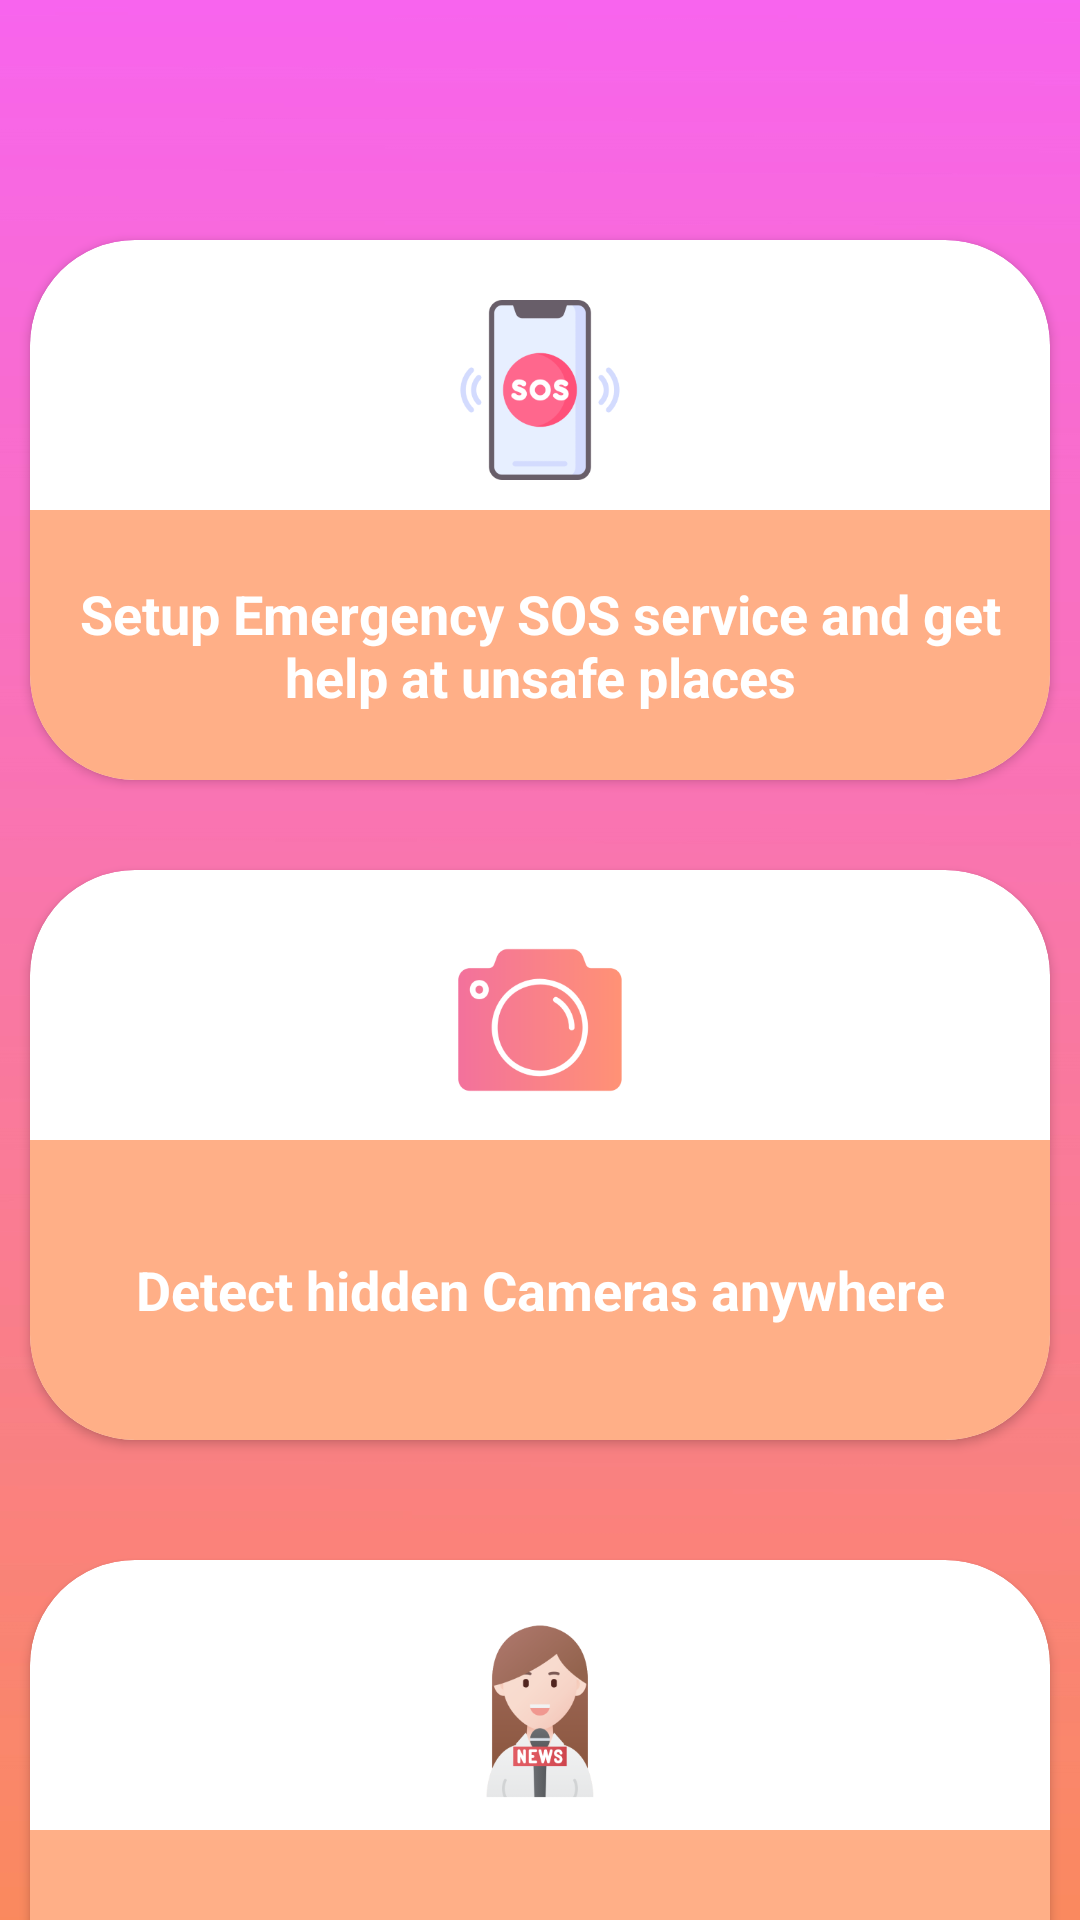

Icons on this 1080*1920 Android screen, each with its box as (x1, y1, x2, y2):
photographer: (458, 949, 622, 1091)
world news: (487, 1625, 593, 1797)
